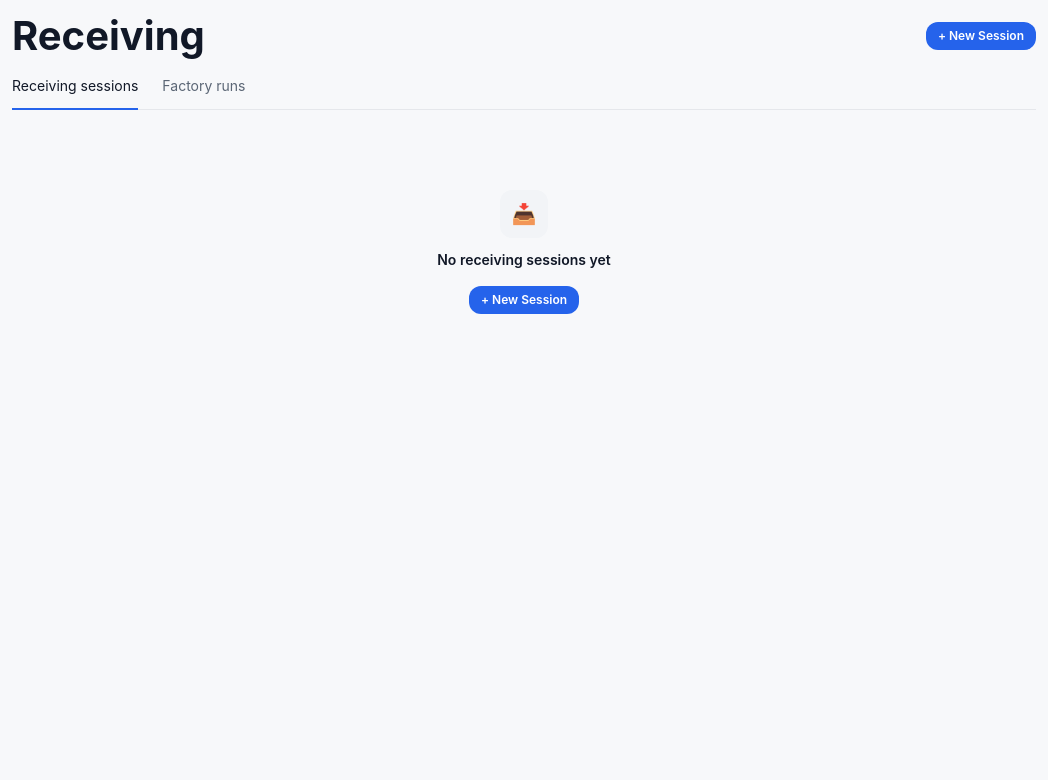
it: Slice 6b — factory receiving › fb2 — the factory card leads to the open-run picker; create sends the run
Click the 1st button "+ New Session" at (981, 36), box [926,22,1036,50]
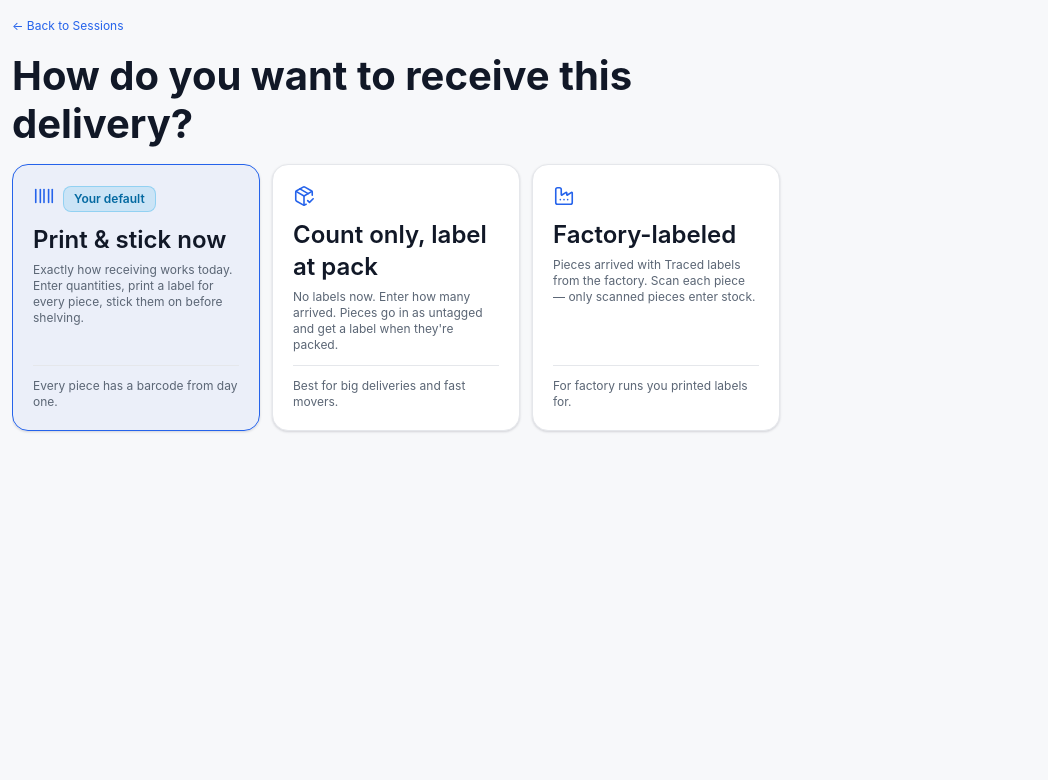
Expected: the button with test id "receiving-mode-factory" shows "Pieces arrived with Traced labels from the factory. Scan each piece — only scanned pieces enter stock."
Click the button with test id "receiving-mode-factory" at (656, 298), box [532,164,780,431]
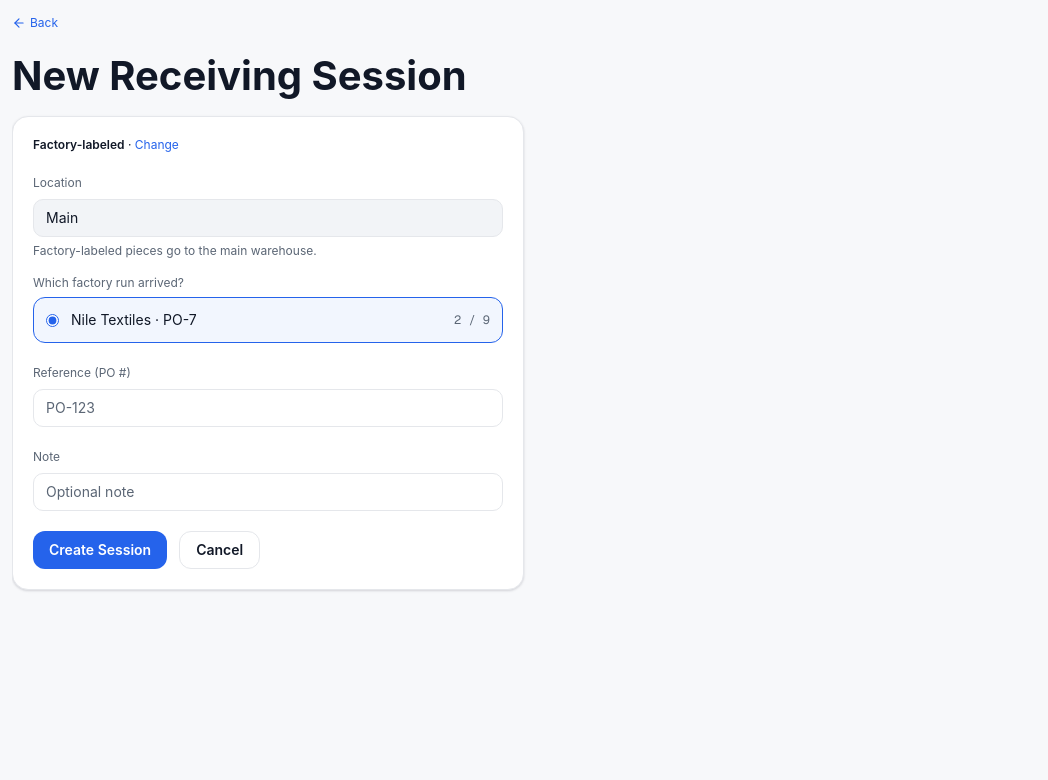
Expected: the text "Nile Textiles · PO-7 2 / 9" is shown, [33,297,503,343]
Expected: the text "Nile Textiles" is shown, [71,311,151,328]
Expected: the text "2 / 9" is shown, [454,312,490,328]
Click the button "Create Session" at (100, 550), box [33,531,167,569]
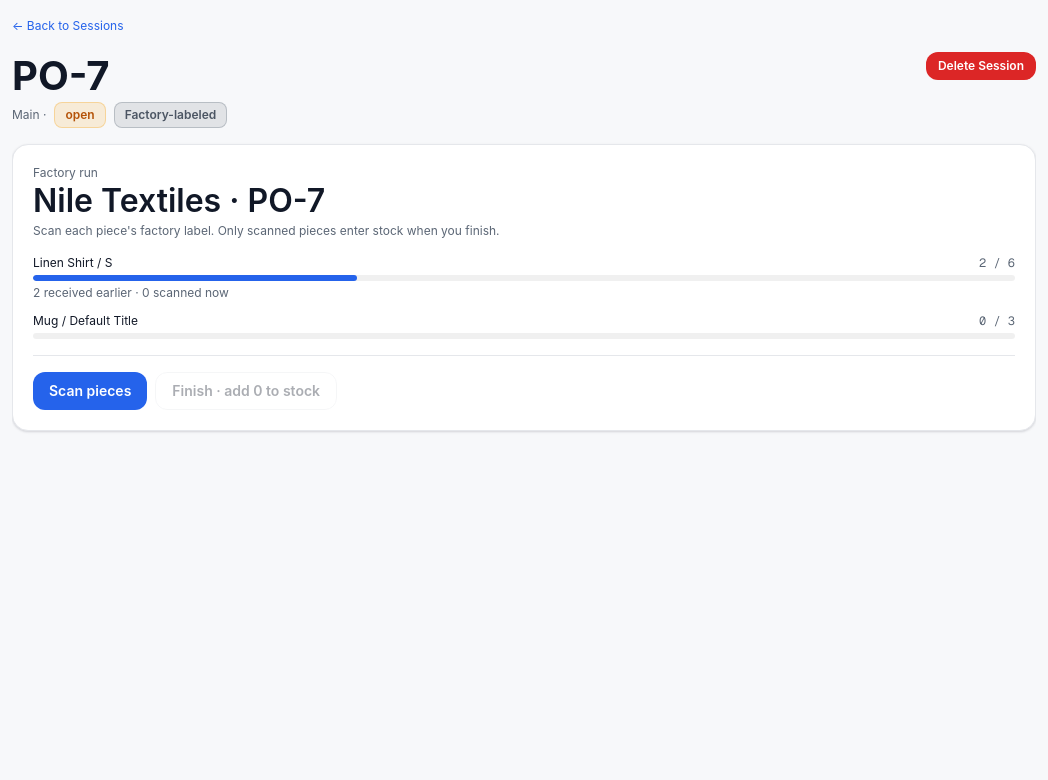
Expected: the element with test id "factory-session" is shown, [12,144,1036,431]
